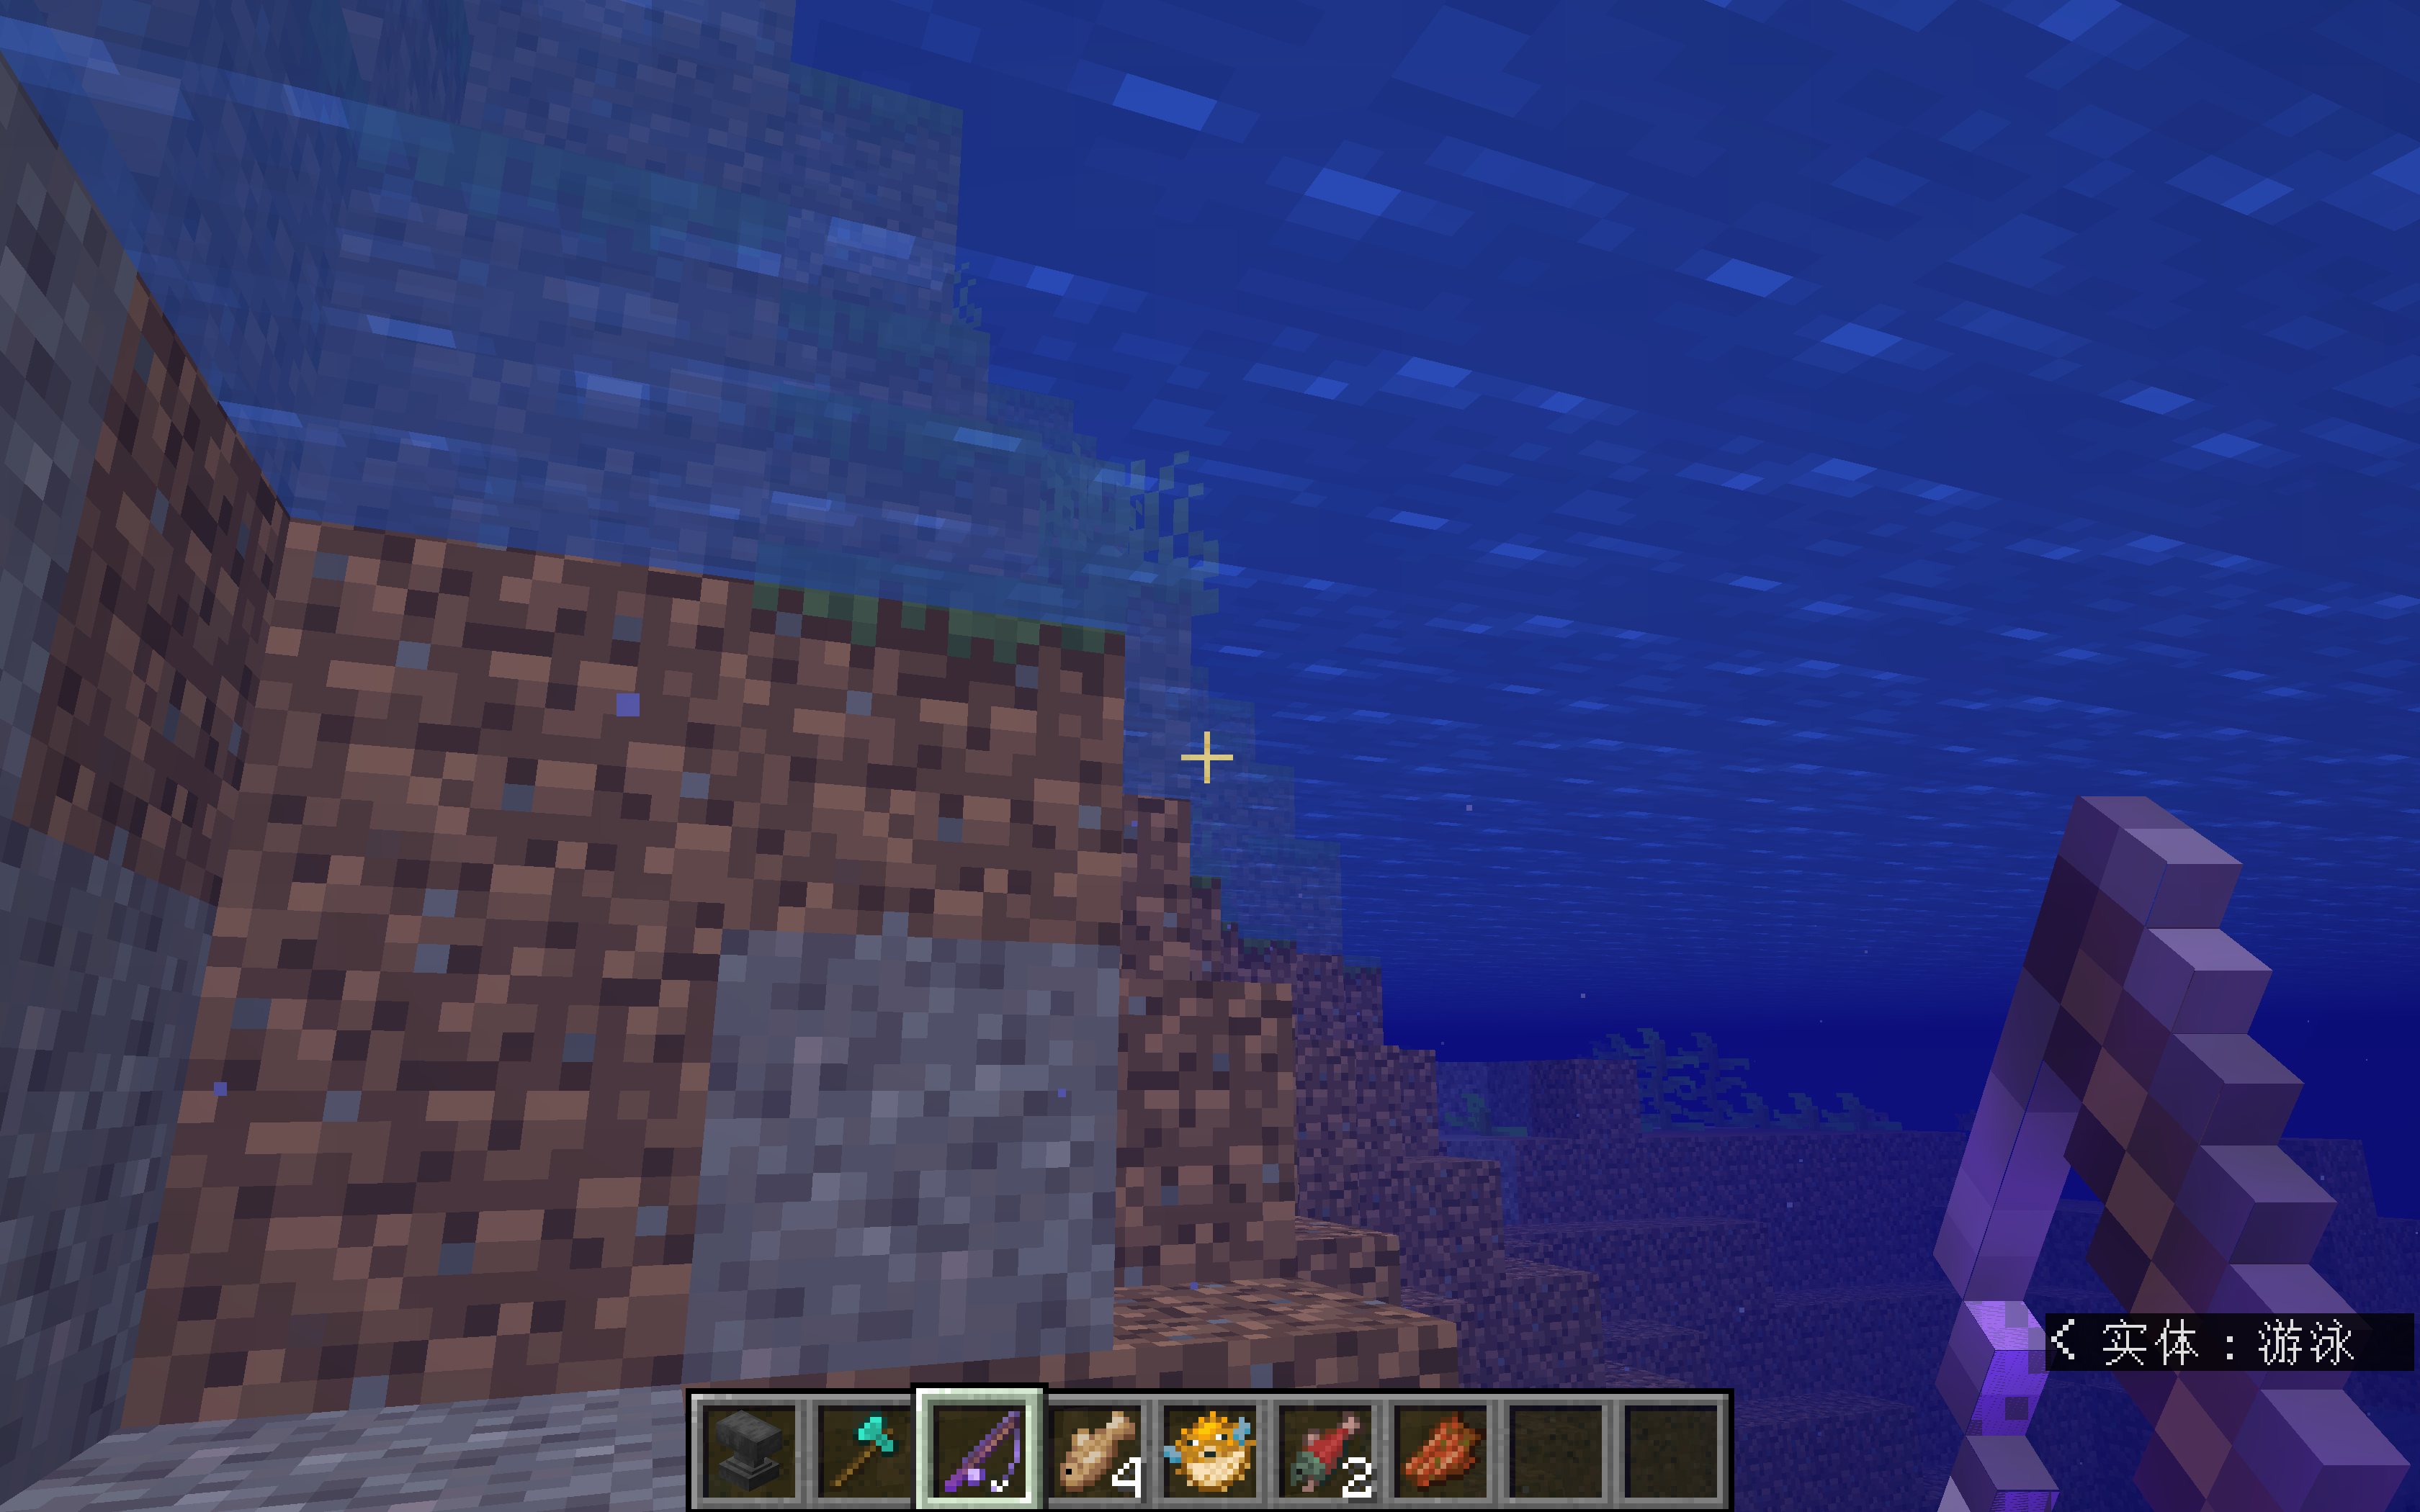inf: (2047, 1313, 2413, 1373)
